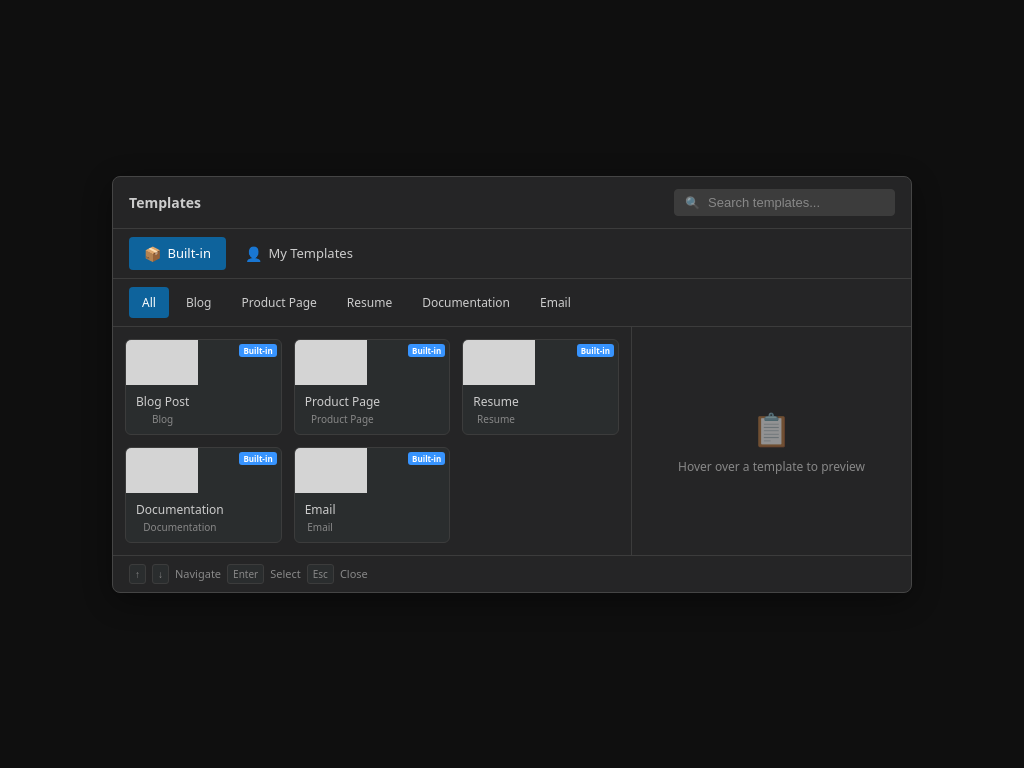
Test: TemplateSelector.vue › Interaction › updates preview on hover
The width and height of the screenshot is (1024, 768).
Step 1. Hover over the option with class "template-item" showing "Blog Post Blog Built-in" → coordinates (203, 386), box [125,338,282,434]
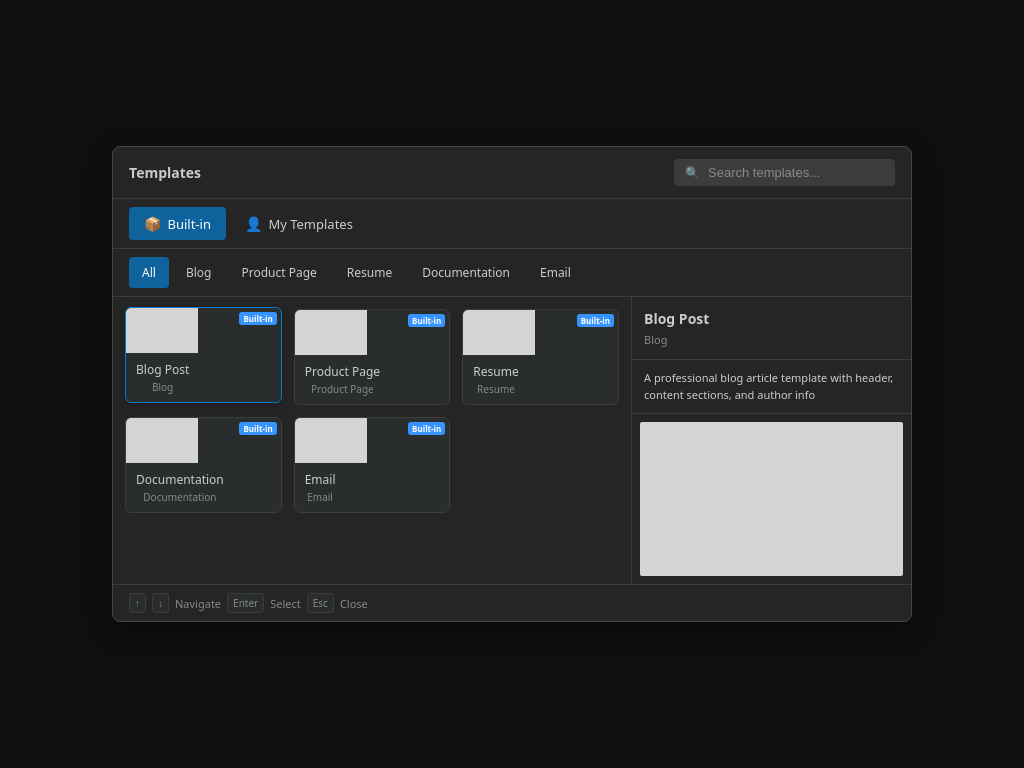
expect the 1st text "Blog Post" is shown: met, box [644,309,709,328]
